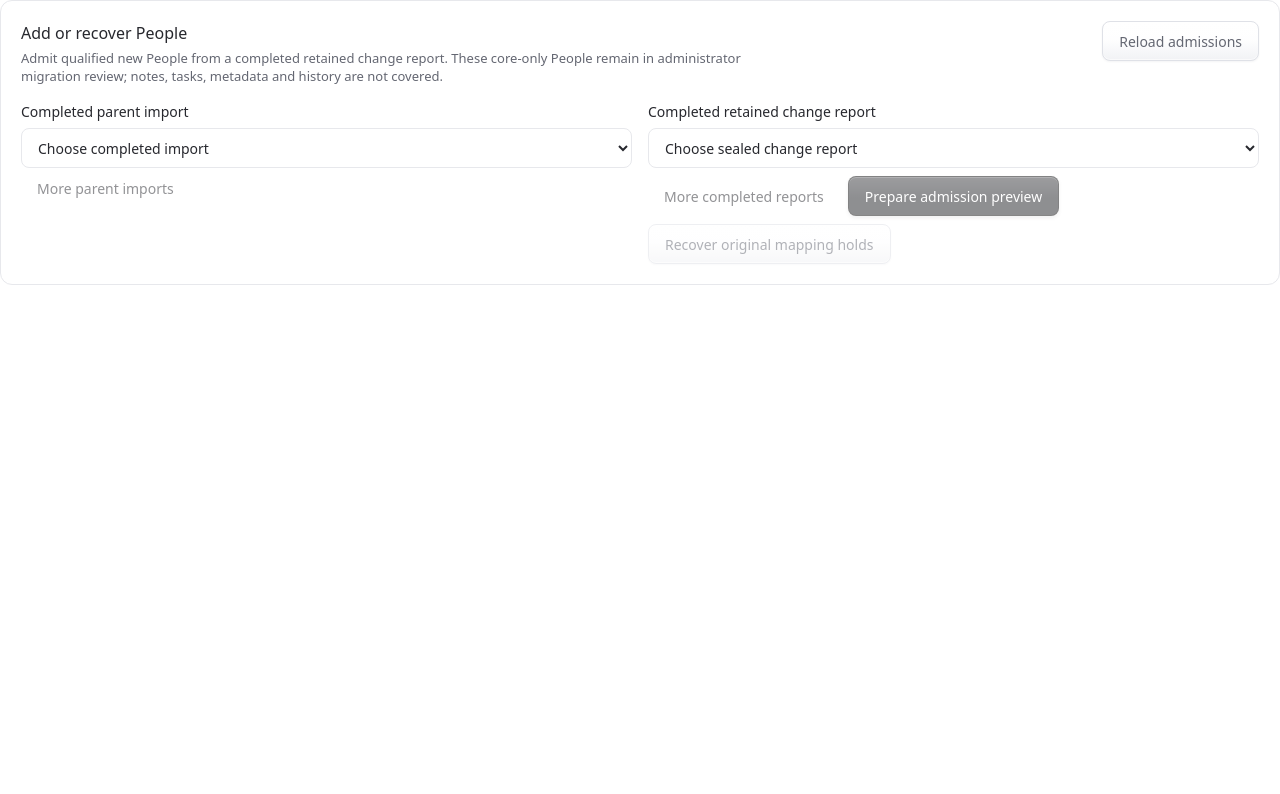
Test: People admission component › shows frozen CRM targets separately from retained source provenance
Select "9/13/2026, 12:00:00 AM · parent" in the dropdown labelled "Completed parent import": (326, 148) [21, 128, 632, 168]
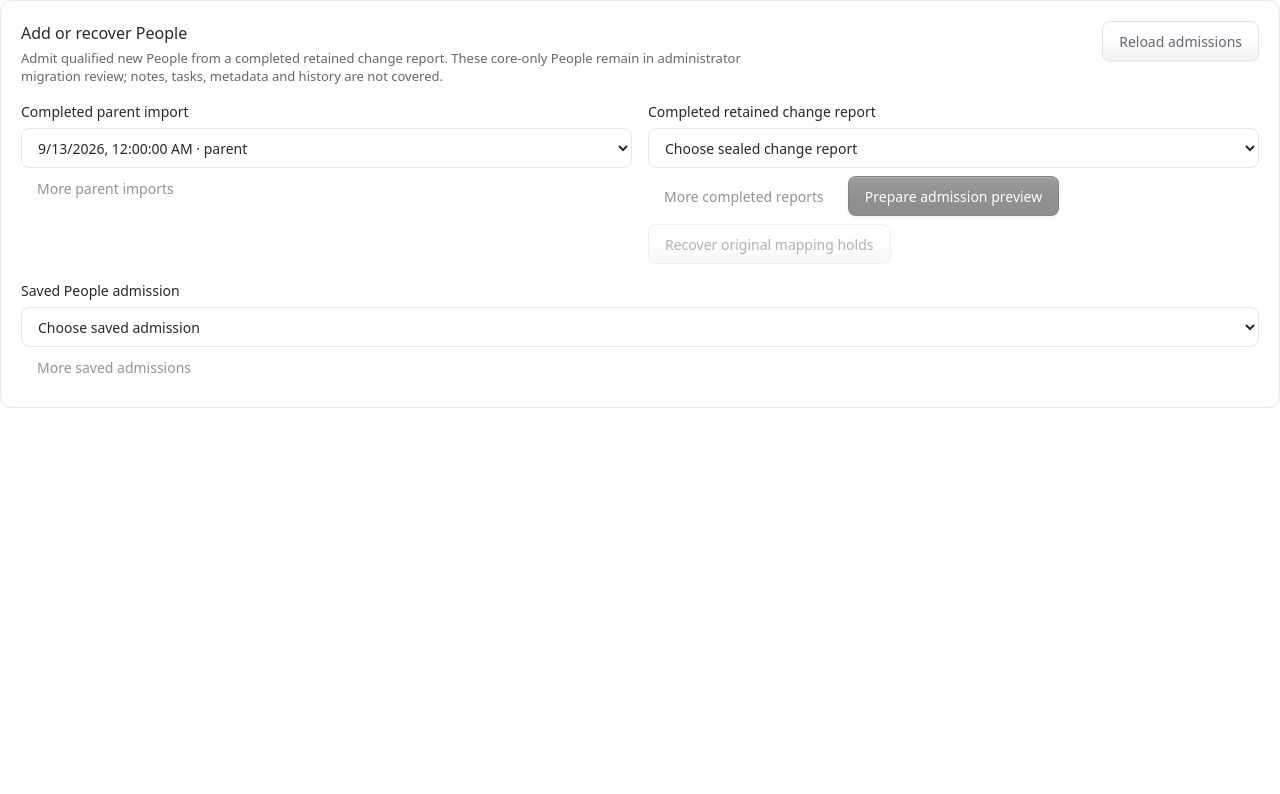
Select "Ready for admission review · 9/13/2026, 12:00:00 AM" in the dropdown labelled "Saved People admission": (640, 327) [21, 307, 1259, 347]
(page scrolled)
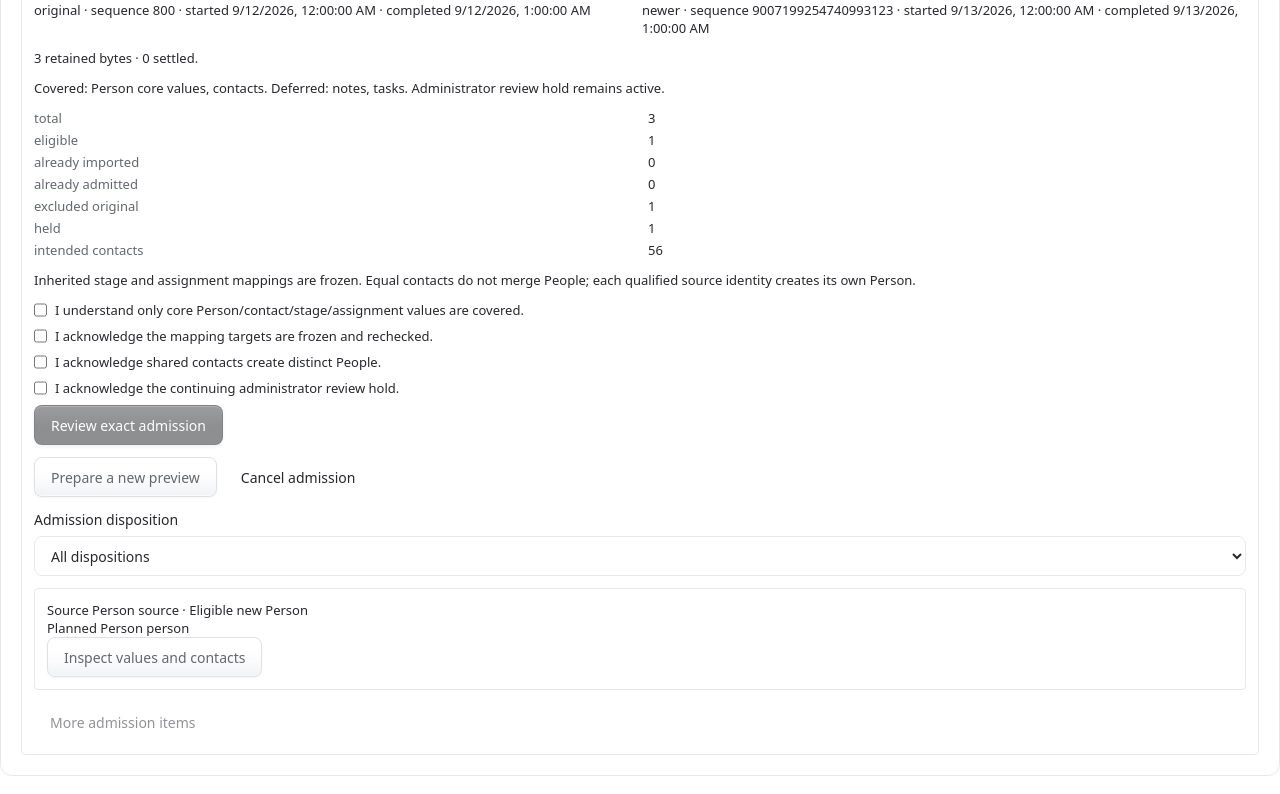
Click the button "Inspect values and contacts": (155, 657) [47, 637, 262, 677]
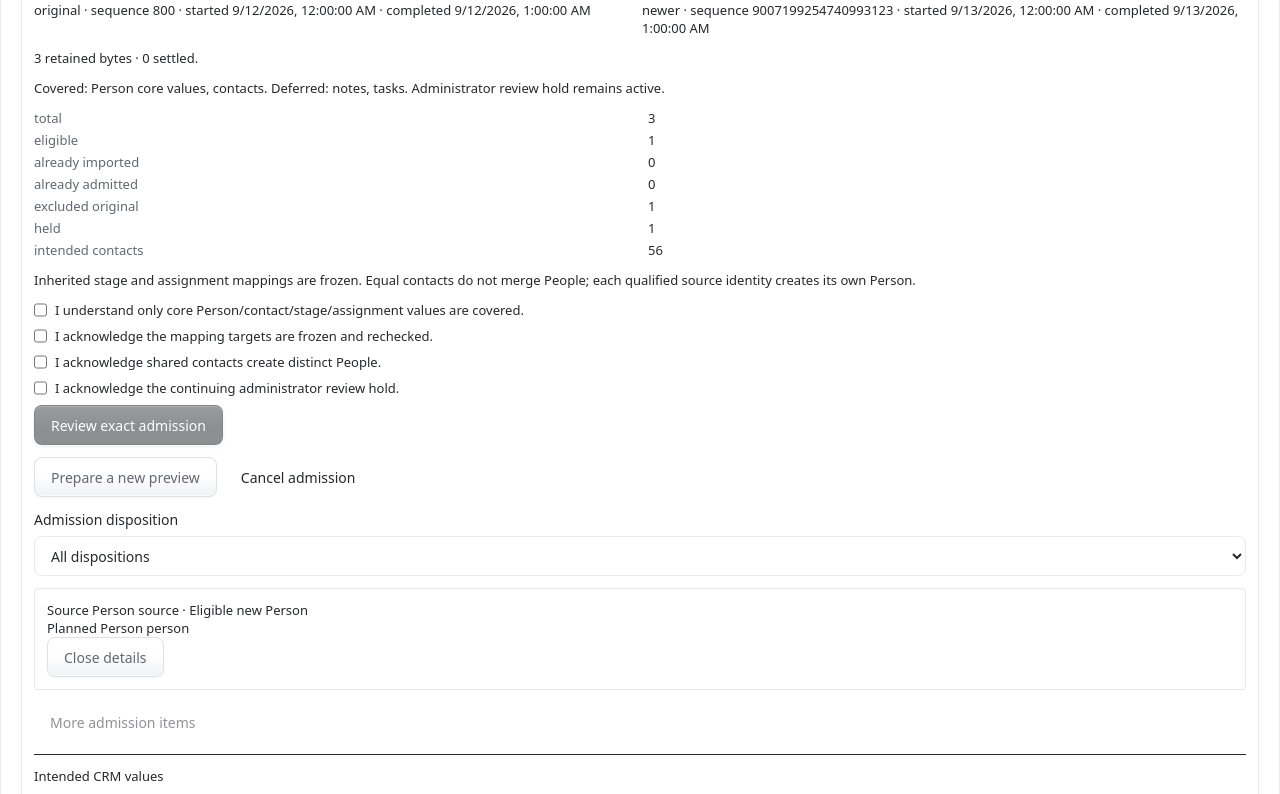
Now the text "Intended CRM values" is shown, box [34, 767, 164, 785]
